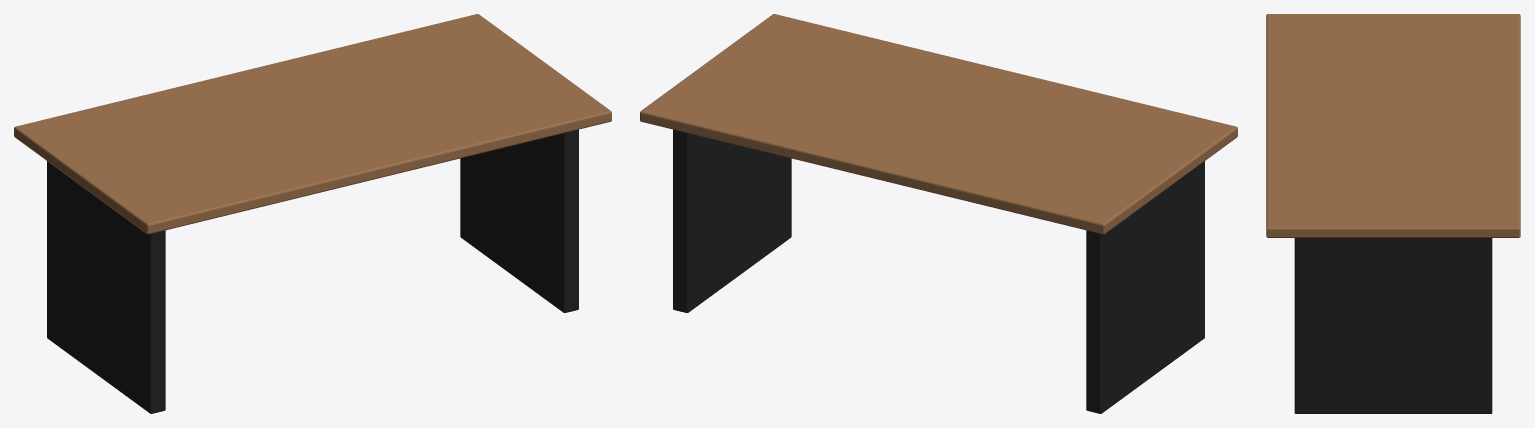
The model's file is furn_table.glb.
3 renders of one model, left to right at view 1: azimuth 30°, elevation 25°; view 2: azimuth 150°, elevation 25°; view 3: azimuth 270°, elevation 25°, orthographic. The views are drawn at different scales.
Visible parts, largest first — view 1: Table; view 2: Table; view 3: Table.
Boxes of the visible parts, left/top/right/bottom form: Table: left=14, top=14, right=611, bottom=413; Table: left=640, top=14, right=1237, bottom=413; Table: left=1266, top=14, right=1520, bottom=413.
Bounding box in the file's own units: 1.8 × 0.76 × 0.9.
